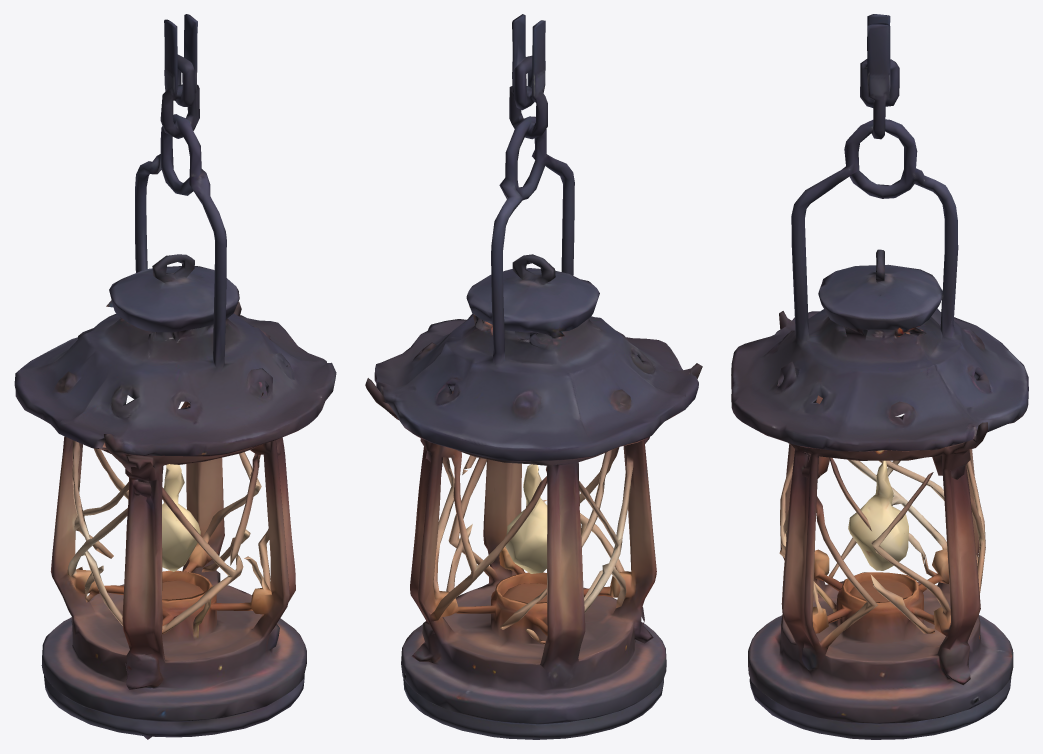
Rendered from lantern.glb.
3 views of the same model, side by side, from view 1: azimuth 30°, elevation 25°; view 2: azimuth 150°, elevation 25°; view 3: azimuth 270°, elevation 25° (orthographic).
Parts seen in each view (by area): view 1: tripo_node_eede5cdc-9fc4-4689-9506-8d8a0b3f8dea; view 2: tripo_node_eede5cdc-9fc4-4689-9506-8d8a0b3f8dea; view 3: tripo_node_eede5cdc-9fc4-4689-9506-8d8a0b3f8dea.
Boxes of the visible parts, <box> form: tripo_node_eede5cdc-9fc4-4689-9506-8d8a0b3f8dea: <box>14,14,336,739</box>; tripo_node_eede5cdc-9fc4-4689-9506-8d8a0b3f8dea: <box>365,14,702,739</box>; tripo_node_eede5cdc-9fc4-4689-9506-8d8a0b3f8dea: <box>731,14,1028,739</box>.
Bounding box in the file's own units: 0.3988 × 1 × 0.3826.
1 material, 1 textured.
